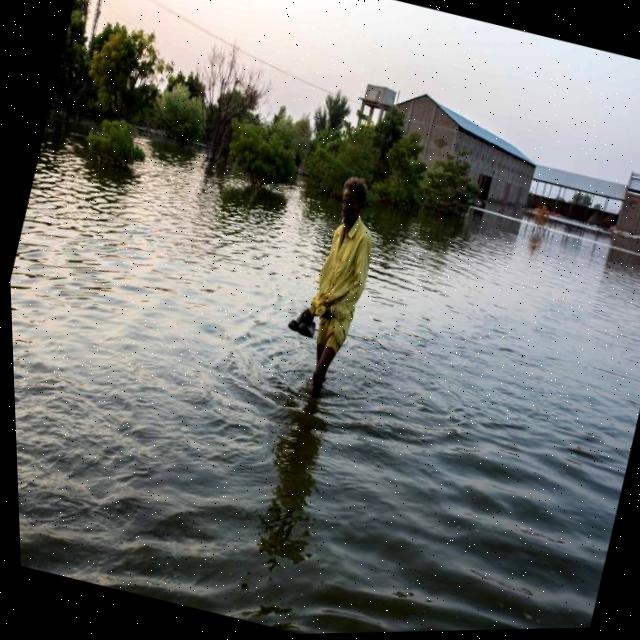civilian: (247, 154, 415, 429)
